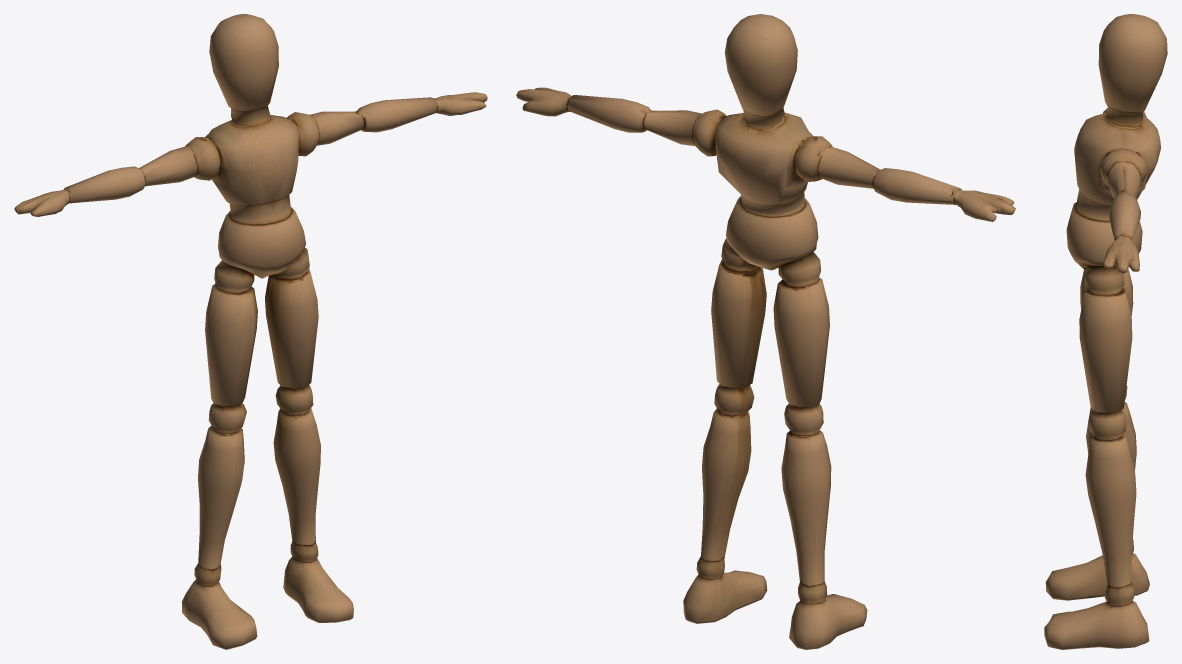
File: mannequin_female.glb
3 renders of one model, left to right at view 1: azimuth 30°, elevation 25°; view 2: azimuth 150°, elevation 25°; view 3: azimuth 270°, elevation 25°, orthographic. The views are drawn at different scales.
Visible parts, largest first — view 1: Mannequin; view 2: Mannequin; view 3: Mannequin.
Part boxes in pixels (x1=…): Mannequin: x1=14, y1=14, x2=487, y2=649; Mannequin: x1=516, y1=14, x2=1015, y2=649; Mannequin: x1=1044, y1=14, x2=1167, y2=649.
Size of the model in its own units: 129 by 154 by 28.67.
1 material, 1 textured.
